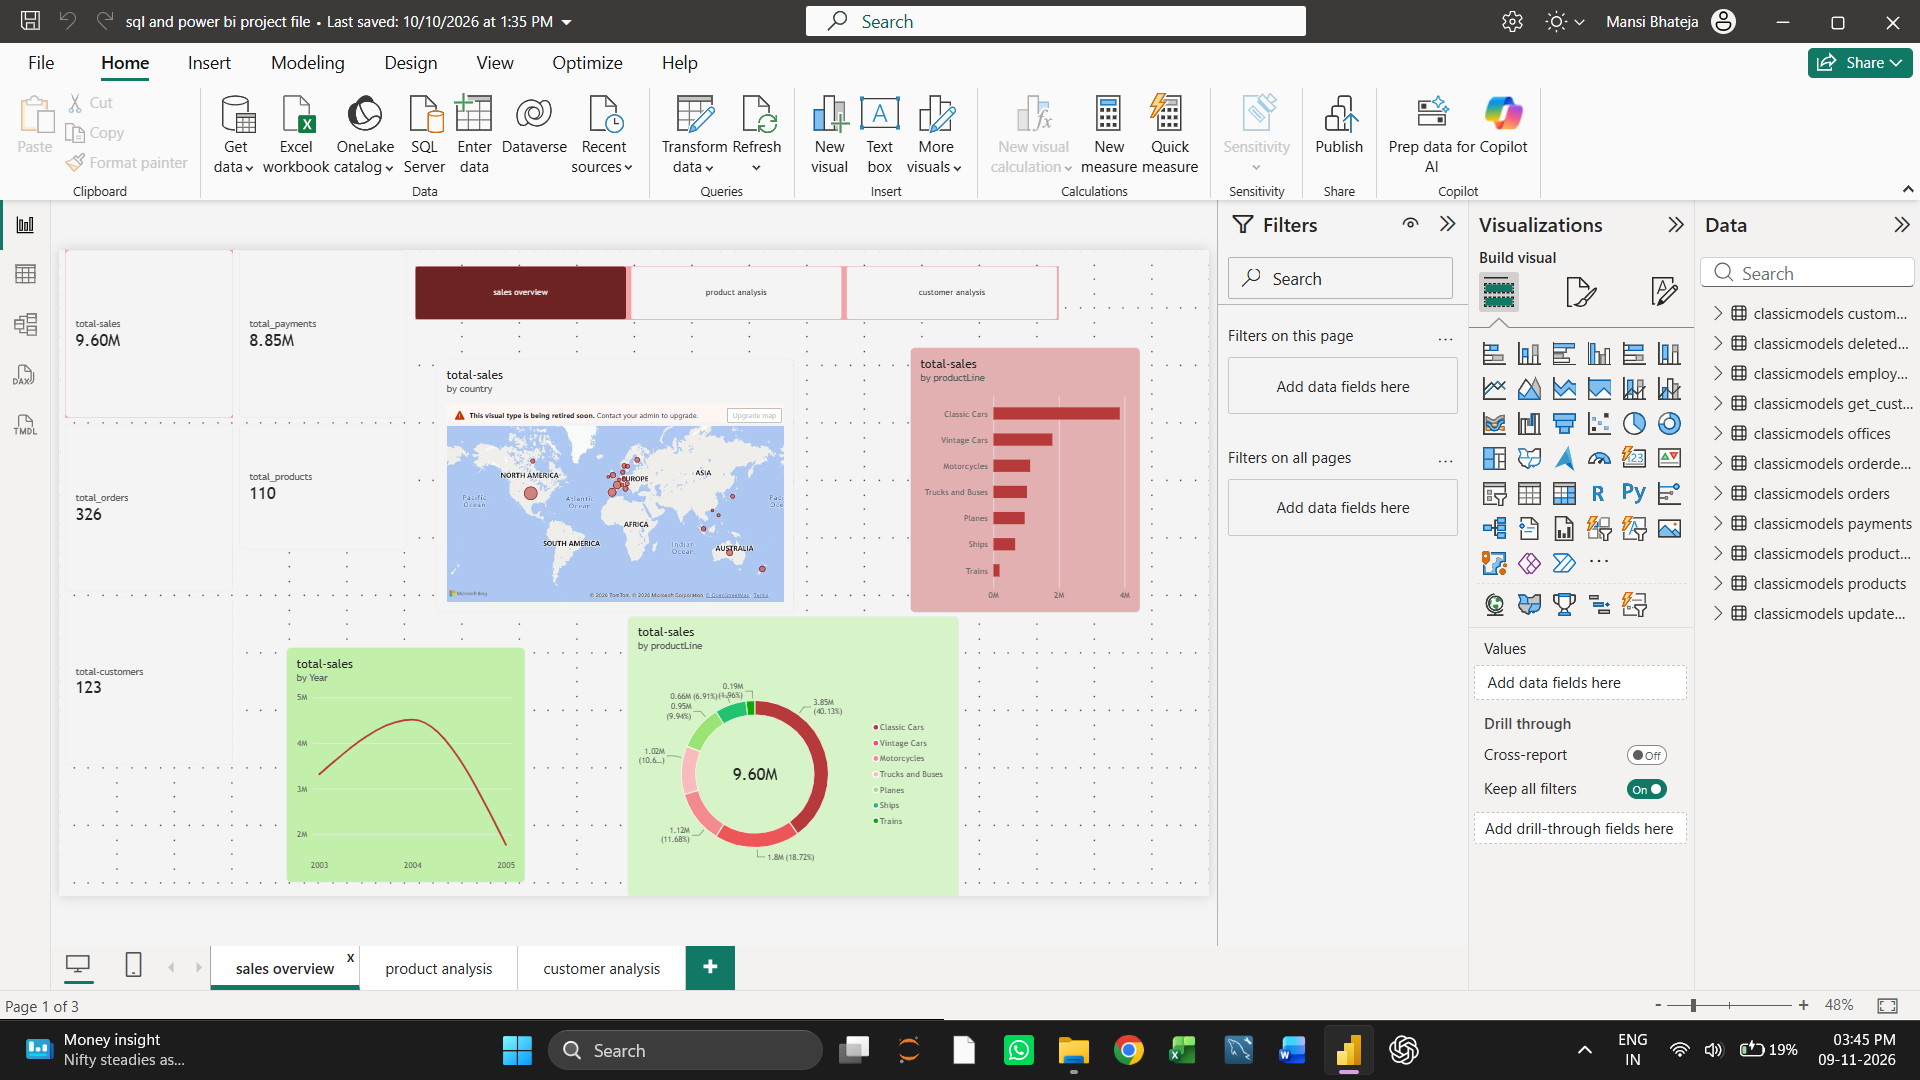

Layout of this report page (visuals, bound fields, positions):
{"tool":"powerbi","page":{"name":"sales overview","canvas":[1920,1080],"ordinal":0},"visuals":[{"type":"cardVisual","fields":{"Data":["classicmodels orders.total-sales"]},"box":[10,0,280,280],"z":0},{"type":"cardVisual","fields":{"Data":["classicmodels orders.total_orders"]},"box":[10,290,280,280],"z":1},{"type":"cardVisual","fields":{"Data":["classicmodels customers.total-customers"]},"box":[10,580,280,280],"z":2},{"type":"cardVisual","fields":{"Data":["classicmodels products.total_products"]},"box":[300.5,290.1,280,210],"z":3},{"type":"cardVisual","fields":{"Data":["classicmodels payments.total_payments"]},"box":[300,0,280,280],"z":4},{"type":"lineChart","fields":{"Category":["classicmodels orders.orderDate.Variation.Date Hierarchy.Year","classicmodels orders.orderDate.Variation.Date Hierarchy.Quarter","classicmodels orders.orderDate.Variation.Date Hierarchy.Month","classicmodels orders.orderDate.Variation.Date Hierarchy.Day"],"Y":["classicmodels orders.total-sales"]},"box":[379.8,663.7,398.6,392.3],"z":5},{"type":"clusteredBarChart","fields":{"Category":["classicmodels productlines.productLine"],"Y":["classicmodels orders.total-sales"]},"box":[1421.2,162.8,384,442.4],"z":6},{"type":"map","fields":{"Category":["classicmodels customers.country"],"Size":["classicmodels orders.total-sales"]},"box":[630.3,181.6,596.9,423.7],"z":7},{"type":"donutChart","fields":{"Category":["classicmodels productlines.productLine"],"Y":["classicmodels orders.total-sales"]},"box":[949.6,611.5,553,469.6],"z":8},{"type":"pageNavigator","box":[594.8,27.1,1074.8,89.7],"z":10}]}

Visuals, with their boxes on the page's 1920x1080 design canvas (x1, y1, x2, y2). These are canvas units, not pixel positions in the 1920x1080 screenshot, which may show the page scaled, cropped or inside an application window:
cardVisual - classicmodels orders.total-sales: x1=10 y1=0 x2=290 y2=280
cardVisual - classicmodels orders.total_orders: x1=10 y1=290 x2=290 y2=570
cardVisual - classicmodels customers.total-customers: x1=10 y1=580 x2=290 y2=860
cardVisual - classicmodels products.total_products: x1=300 y1=290 x2=580 y2=500
cardVisual - classicmodels payments.total_payments: x1=300 y1=0 x2=580 y2=280
lineChart - classicmodels orders.orderDate.Variation.Date Hierarchy.Year x classicmodels orders.orderDate.Variation.Date Hierarchy.Quarter: x1=380 y1=664 x2=778 y2=1056
clusteredBarChart - classicmodels productlines.productLine x classicmodels orders.total-sales: x1=1421 y1=163 x2=1805 y2=605
map - classicmodels customers.country x classicmodels orders.total-sales: x1=630 y1=182 x2=1227 y2=605
donutChart - classicmodels productlines.productLine x classicmodels orders.total-sales: x1=950 y1=612 x2=1503 y2=1081
pageNavigator: x1=595 y1=27 x2=1670 y2=117
